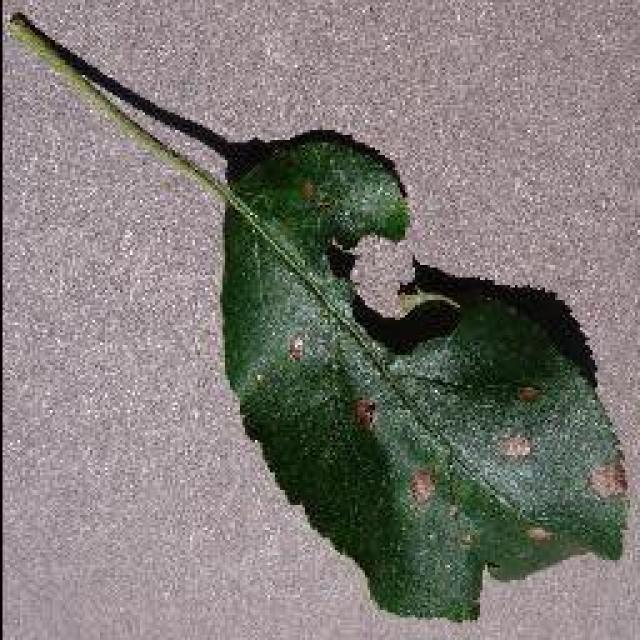Black_rot: (5, 10, 630, 622)
